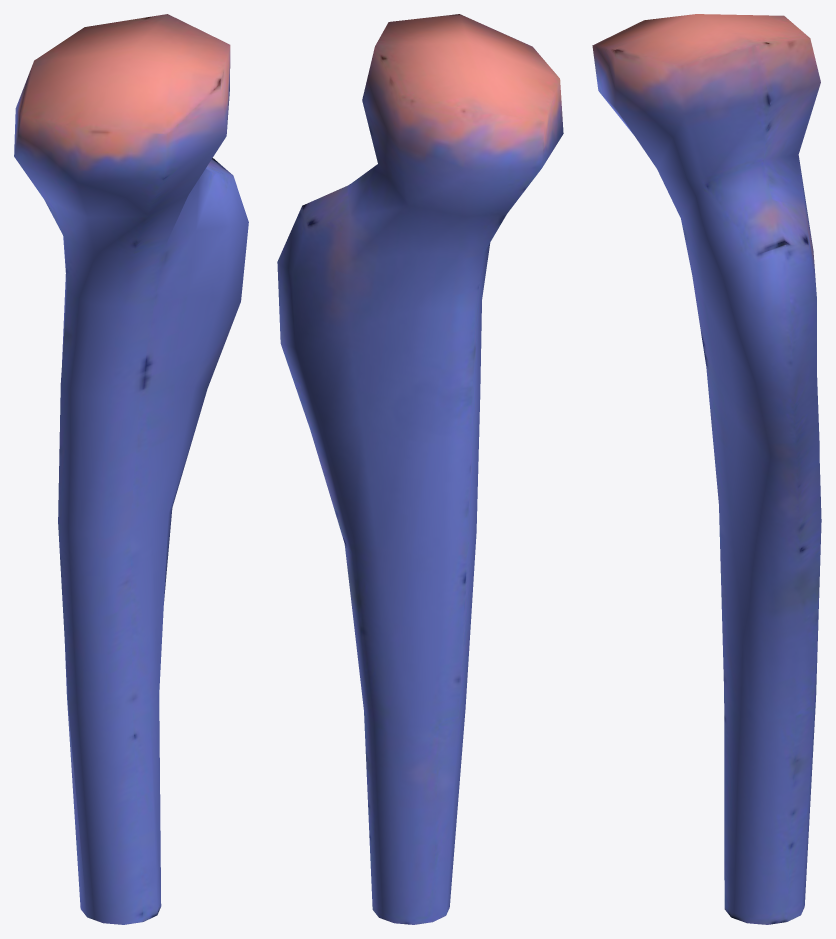
Rendered from 38-Bubble.fbx.
3 views of the same model, side by side, from view 1: azimuth 30°, elevation 25°; view 2: azimuth 150°, elevation 25°; view 3: azimuth 270°, elevation 25° (orthographic). The views are drawn at different scales.
Visible parts, largest first — view 1: 38-Bubble_LOD00; view 2: 38-Bubble_LOD00; view 3: 38-Bubble_LOD00.
Part boxes in pixels (x1,y1,x2,y2): 38-Bubble_LOD00: (14, 14, 248, 924); 38-Bubble_LOD00: (277, 14, 563, 924); 38-Bubble_LOD00: (592, 14, 821, 924).
Bounding box in the file's own units: 11.32 × 38.68 × 9.1.
